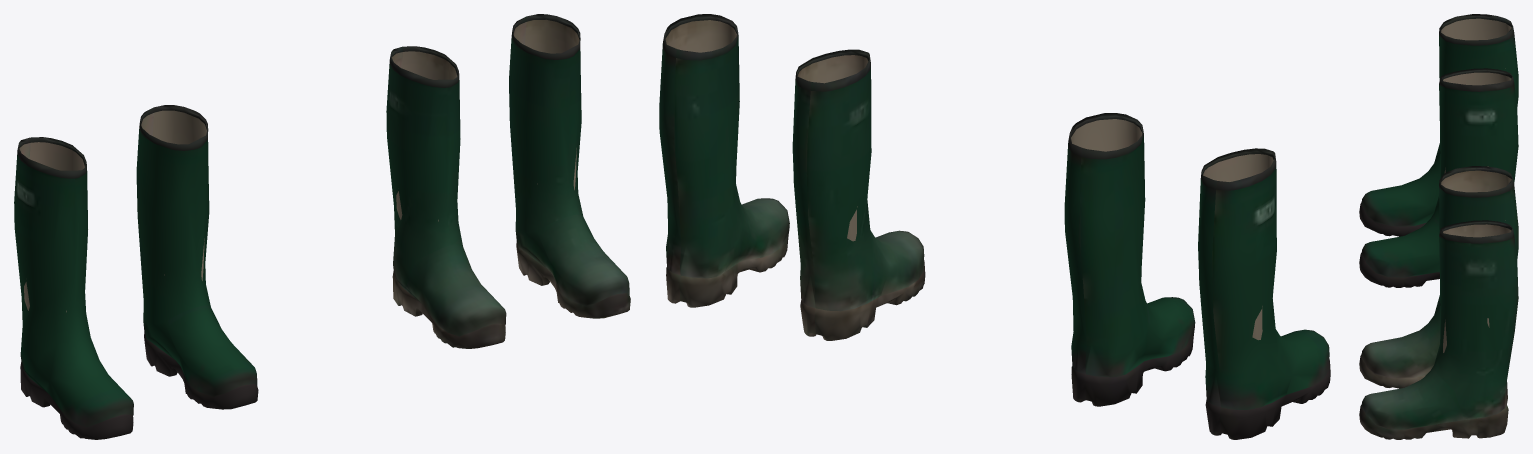
Rendered from boots.glb.
3 views of the same model, side by side, from view 1: azimuth 30°, elevation 25°; view 2: azimuth 150°, elevation 25°; view 3: azimuth 270°, elevation 25° (orthographic). The views are drawn at different scales.
Visible parts, largest first — view 1: rubber_boots_r, rubber_boots_dirt_r, rubber_boots_l, rubber_boots_dirty_l; view 2: rubber_boots_dirty_l, rubber_boots_l, rubber_boots_dirt_r, rubber_boots_r; view 3: rubber_boots_dirty_l, rubber_boots_l, rubber_boots_dirt_r, rubber_boots_r.
Part boxes in pixels (x1,y1,x2,y2): rubber_boots_r: (14,137,133,439); rubber_boots_dirt_r: (386,46,506,348); rubber_boots_l: (136,105,258,409); rubber_boots_dirty_l: (509,14,630,318); rubber_boots_dirty_l: (659,14,789,307); rubber_boots_l: (1064,113,1195,406); rubber_boots_dirt_r: (792,49,925,340); rubber_boots_r: (1198,148,1330,439); rubber_boots_dirty_l: (1359,220,1518,439); rubber_boots_l: (1359,68,1518,287); rubber_boots_dirt_r: (1359,166,1518,388); rubber_boots_r: (1359,14,1518,236).
Bounding box in the file's own units: 0.8898 × 0.372 × 0.2658.
2 materials, 2 textured.
